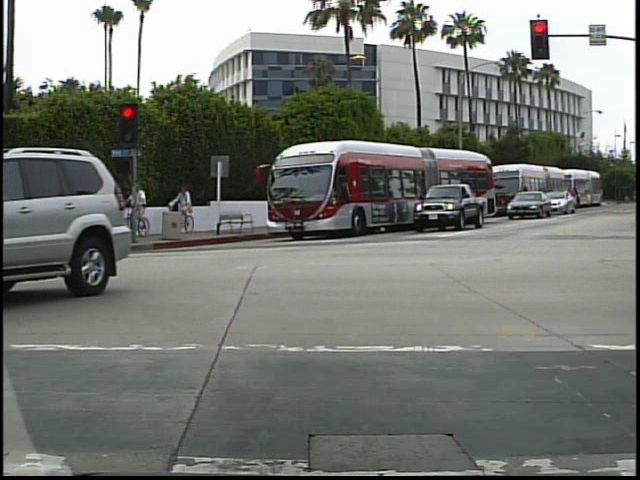person: (174, 183, 199, 237)
